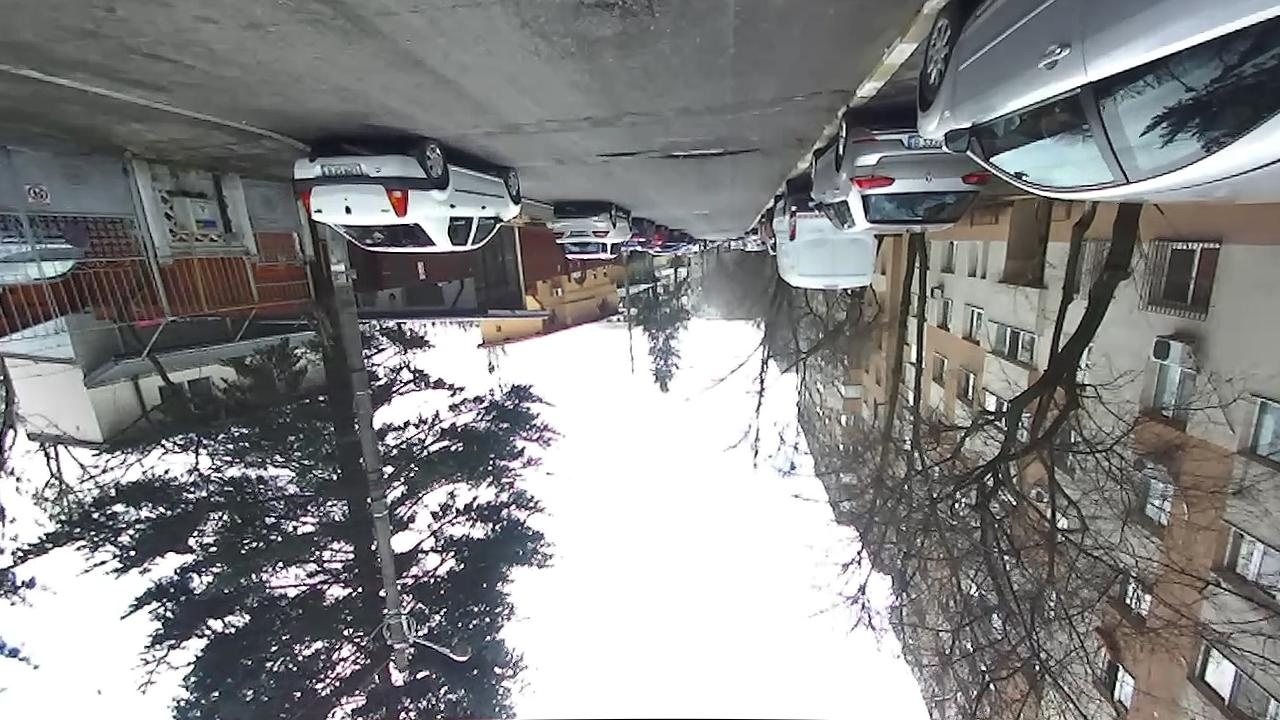pothole: (667, 146, 757, 160), (596, 0, 656, 12), (597, 150, 645, 157)
